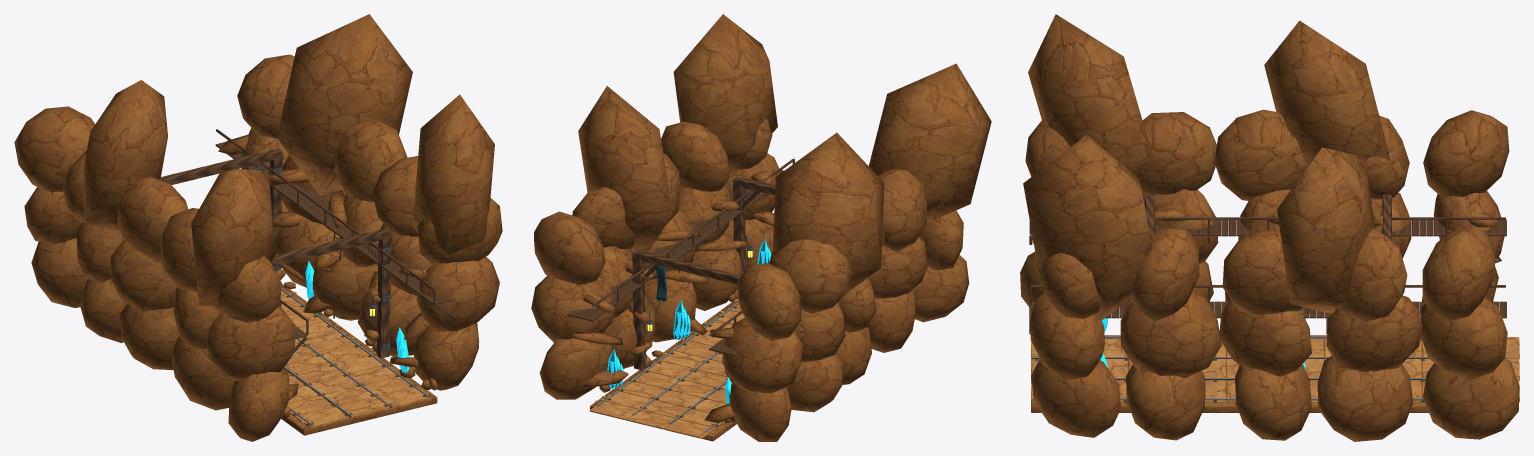
Rendered from track.glb.
3 views of the same model, side by side, from view 1: azimuth 30°, elevation 25°; view 2: azimuth 150°, elevation 25°; view 3: azimuth 270°, elevation 25° (orthographic). The views are drawn at different scales.
Visible parts, largest first — view 1: track; view 2: track; view 3: track.
Boxes of the visible parts, bbox=[...] form: track: bbox=[14, 14, 502, 441]; track: bbox=[531, 14, 991, 441]; track: bbox=[1020, 14, 1519, 441].
Bounding box in the file's own units: 20.86 × 17.42 × 25.26.
12 materials, 7 textured.
